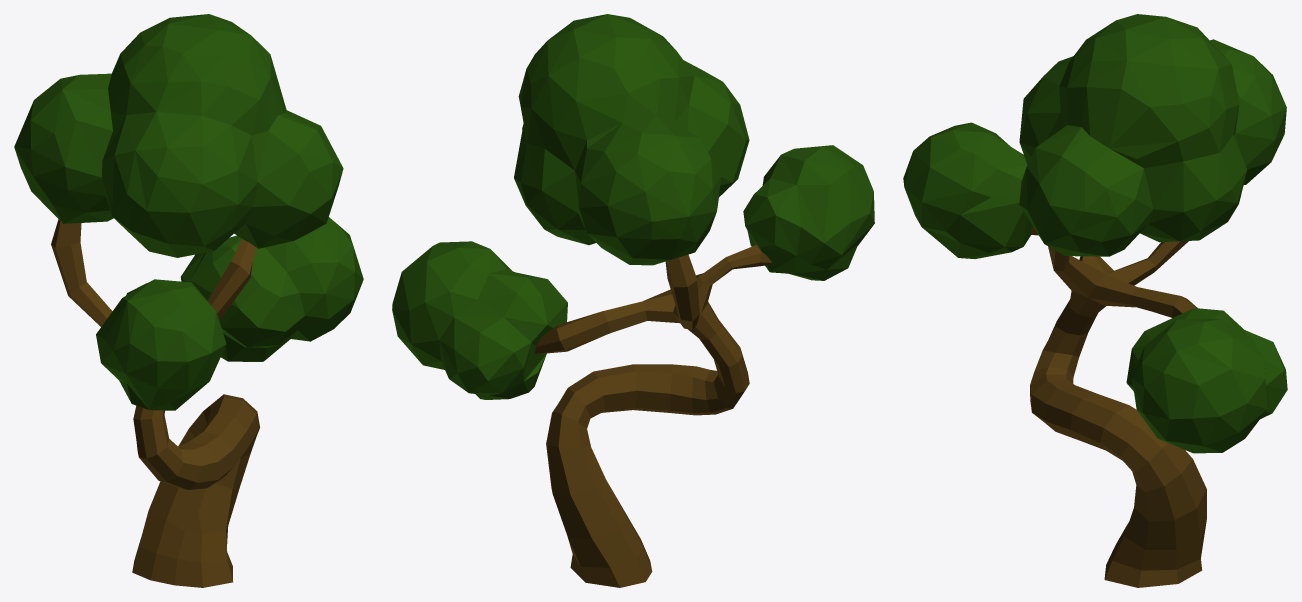
File: tree4.obj
3 renders of one model, left to right at view 1: azimuth 30°, elevation 25°; view 2: azimuth 150°, elevation 25°; view 3: azimuth 270°, elevation 25°, orthographic. The views are drawn at different scales.
Parts seen in each view (by area): view 1: polySurface10; view 2: polySurface10; view 3: polySurface10.
Boxes of the visible parts, left/top/right/bottom form: polySurface10: left=14, top=14, right=363, bottom=587; polySurface10: left=392, top=14, right=874, bottom=587; polySurface10: left=903, top=14, right=1287, bottom=587.
Bounding box in the file's own units: 2.55 × 3.72 × 2.36.
Materials: 1 (1 with a texture image).
